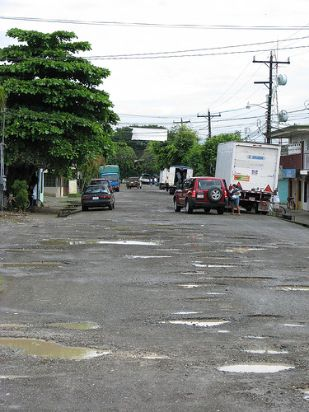pothole: (0, 336, 113, 364), (213, 356, 298, 376)
